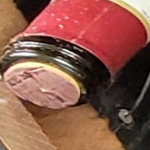bottle: (1, 25, 119, 128)
